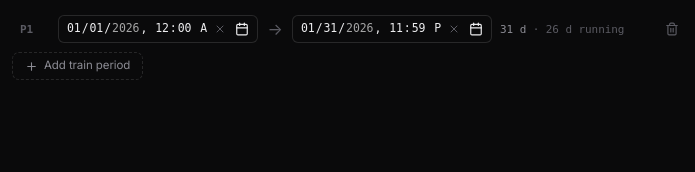
Test case: TimePeriodsEditor — one quiet line per period (workbench redesign §5) › a period whose dates changed loses its running days until the new count lands (the count is for the old dates)
Replace the text in the field named "P1 end" with "2026-01-20T23:59": (367, 29) [293,16,441,42]
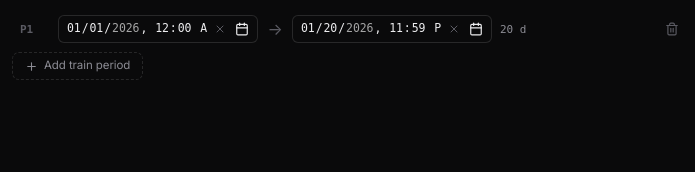
Now the text with test id "period-days-1" reads "20 d", box [500,22,526,36]
